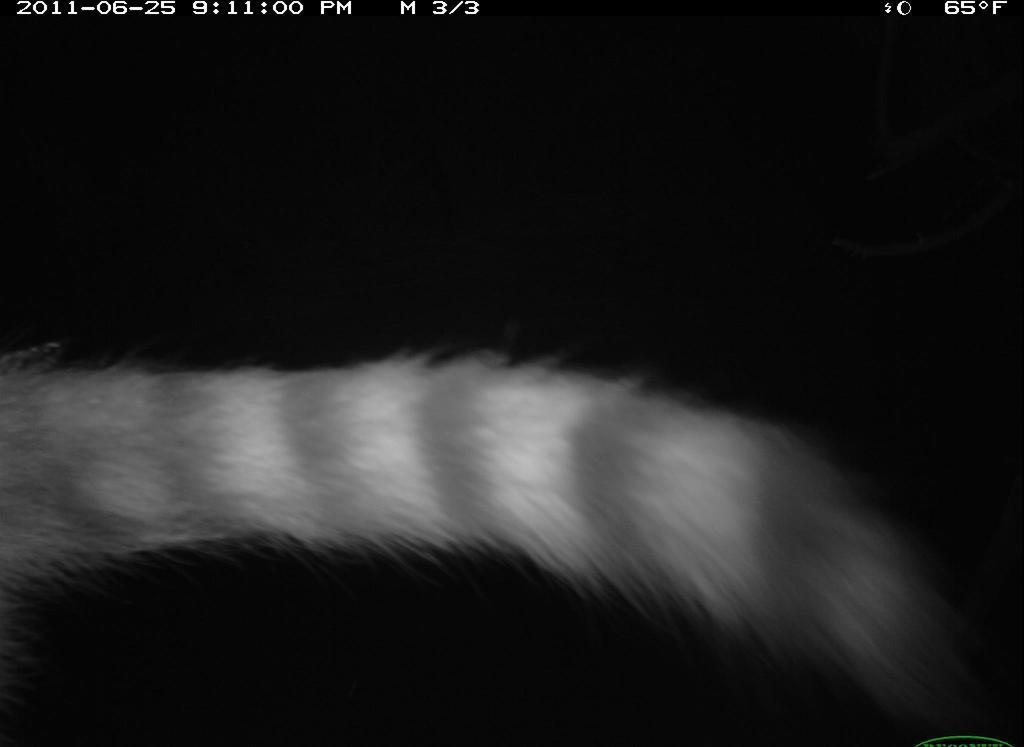raccoon: (2, 336, 985, 747)
